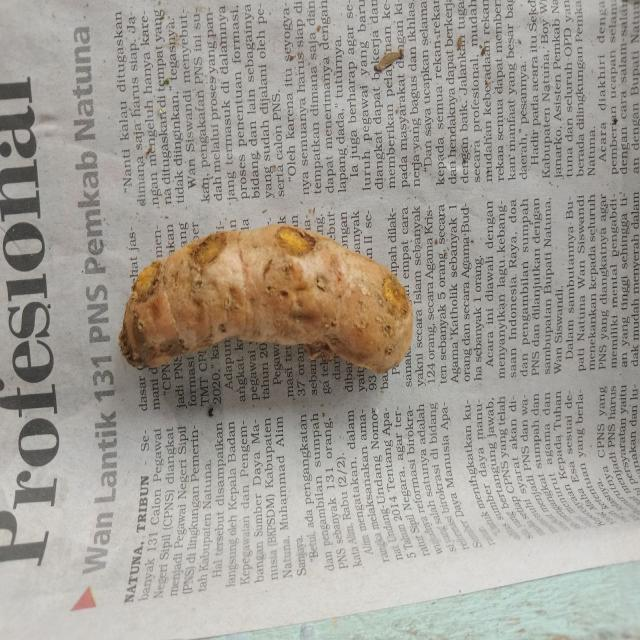ginger: (118, 222, 414, 366)
